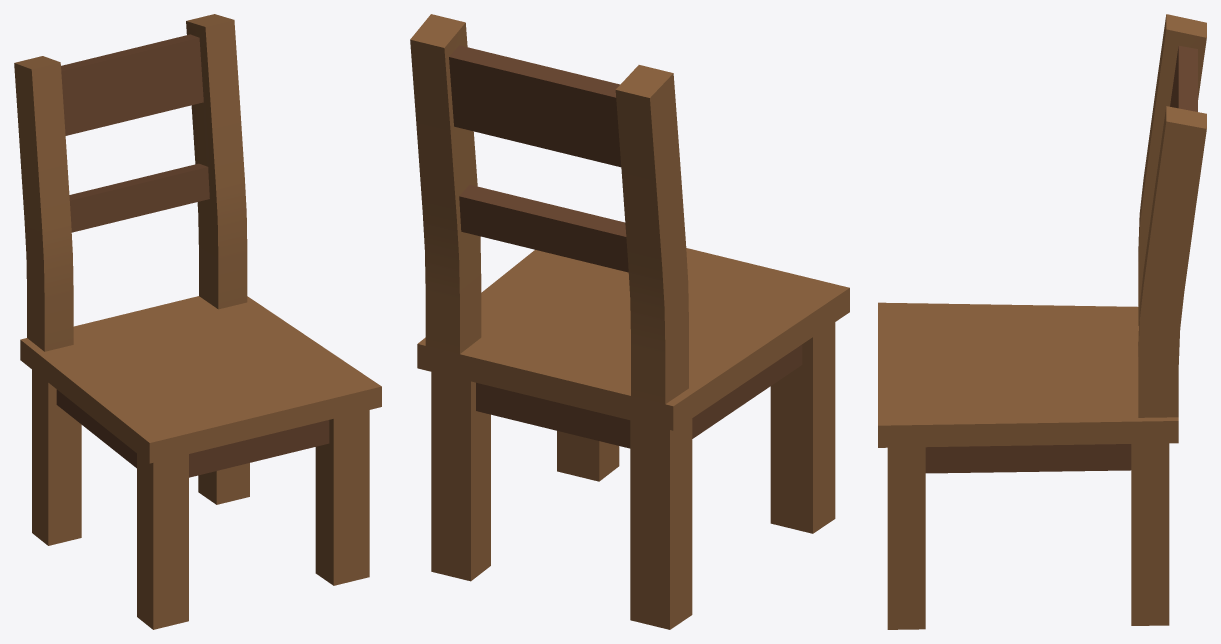
File: Sedia_1.fbx
3 renders of one model, left to right at view 1: azimuth 30°, elevation 25°; view 2: azimuth 150°, elevation 25°; view 3: azimuth 270°, elevation 25°, orthographic. The views are drawn at different scales.
Parts seen in each view (by area): view 1: Sedia_1; view 2: Sedia_1; view 3: Sedia_1.
Boxes of the visible parts, x1,y1,x2,y2 form: Sedia_1: (14, 14, 381, 629); Sedia_1: (410, 14, 849, 629); Sedia_1: (878, 14, 1206, 629).
Bounding box in the file's own units: 0.9222 × 1.77 × 1.04.
